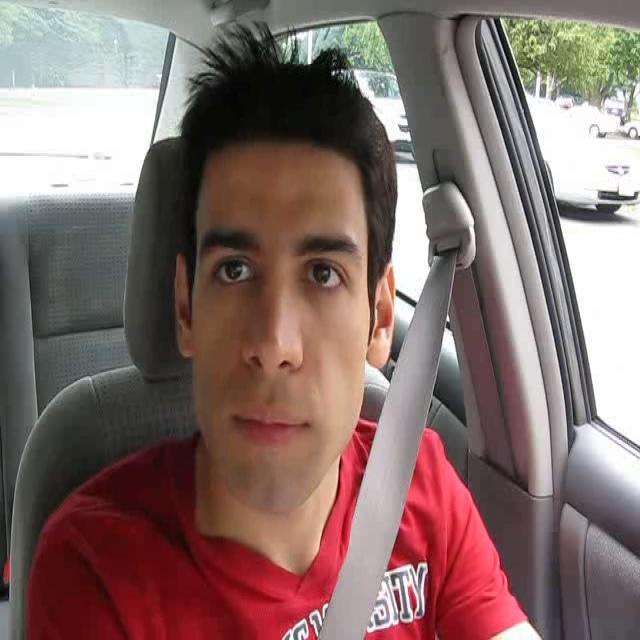close: (227, 402, 312, 451)
